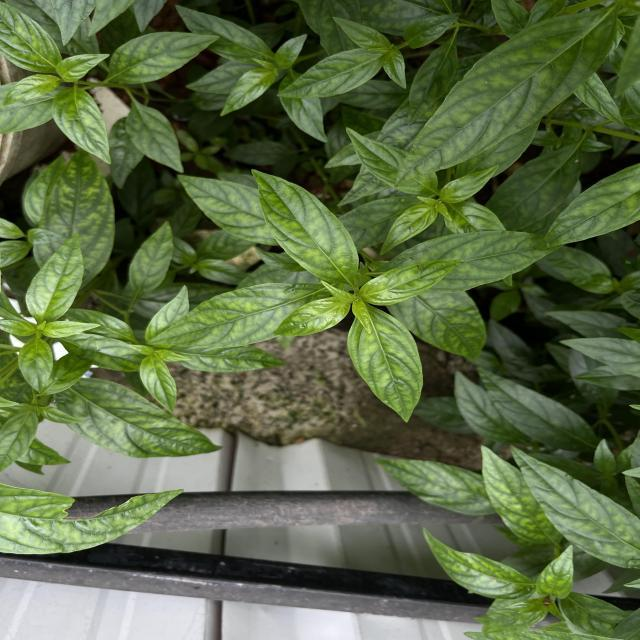Andrographis paniculata: (392, 6, 620, 189), (508, 444, 640, 570), (55, 376, 224, 458), (248, 168, 360, 288), (33, 150, 117, 274), (344, 303, 425, 425), (146, 282, 288, 347), (420, 524, 532, 602), (478, 442, 556, 548), (372, 455, 493, 518), (176, 173, 278, 246), (275, 45, 390, 100), (106, 32, 221, 87), (23, 231, 86, 325), (49, 83, 111, 166), (357, 258, 459, 307), (123, 102, 186, 174), (122, 220, 175, 294), (268, 296, 352, 338), (218, 67, 276, 119), (138, 354, 178, 416)
